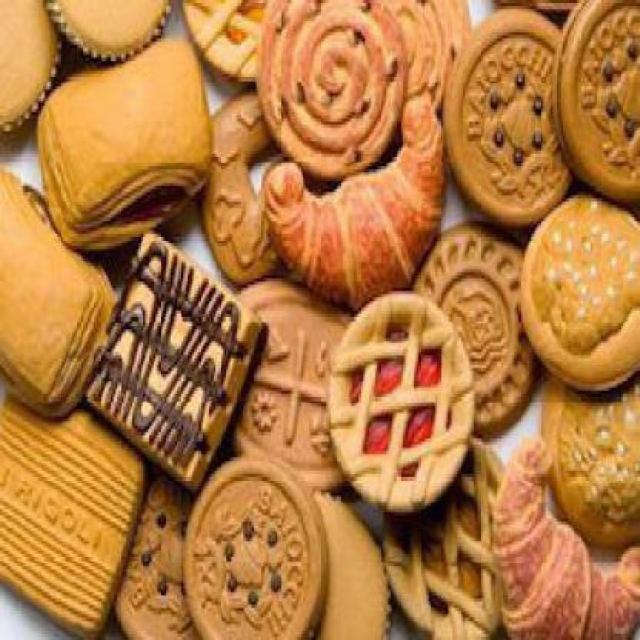Merendine packaged: (86, 239, 272, 493), (32, 38, 212, 244), (326, 290, 474, 510), (1, 163, 116, 420), (516, 188, 638, 407)
